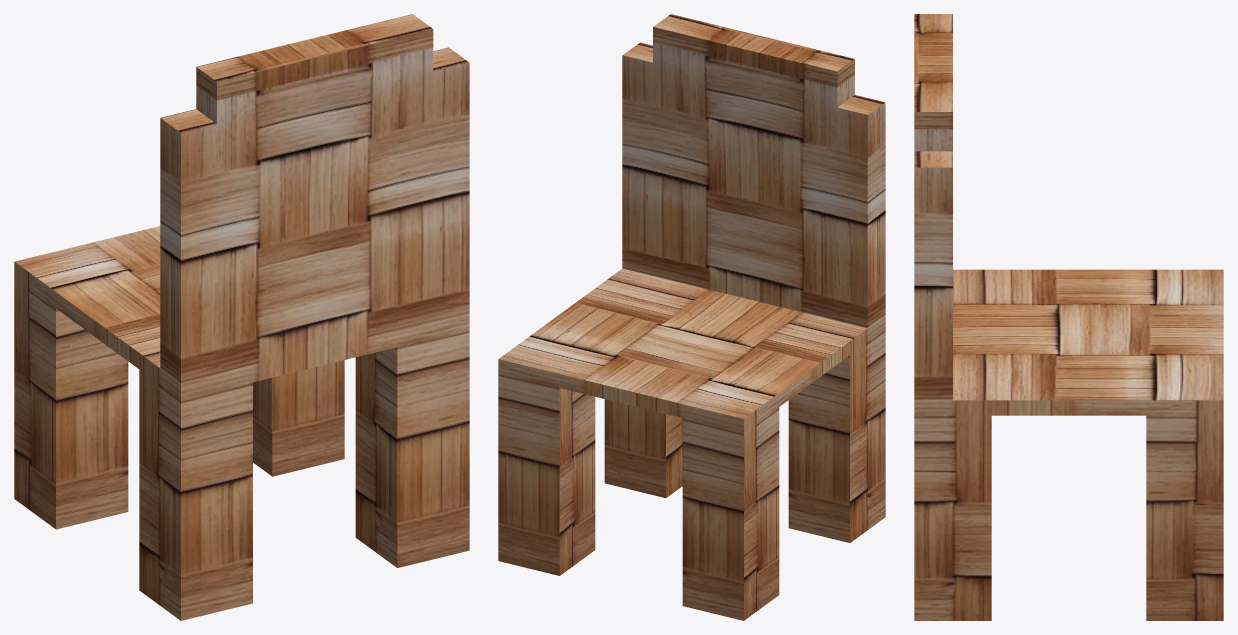
File: chair.obj
3 renders of one model, left to right at view 1: azimuth 30°, elevation 25°; view 2: azimuth 150°, elevation 25°; view 3: azimuth 270°, elevation 25°, orthographic. The views are drawn at different scales.
Parts seen in each view (by area): view 1: Cube; view 2: Cube; view 3: Cube.
Boxes of the visible parts, x1,y1,x2,y2 form: Cube: (14, 14, 469, 620); Cube: (498, 14, 885, 620); Cube: (914, 14, 1223, 620).
Bounding box in the file's own units: 1 × 1.76 × 1.
